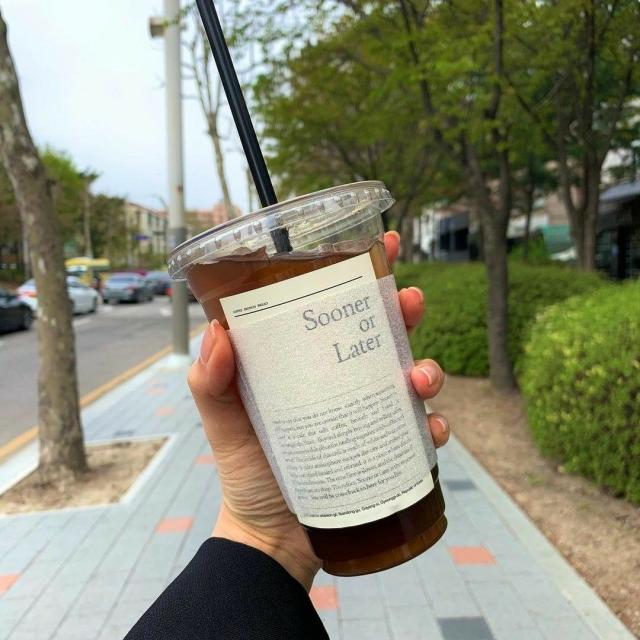plastic cup: (168, 181, 448, 577)
